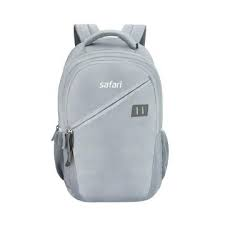backpack: (51, 22, 169, 202)
